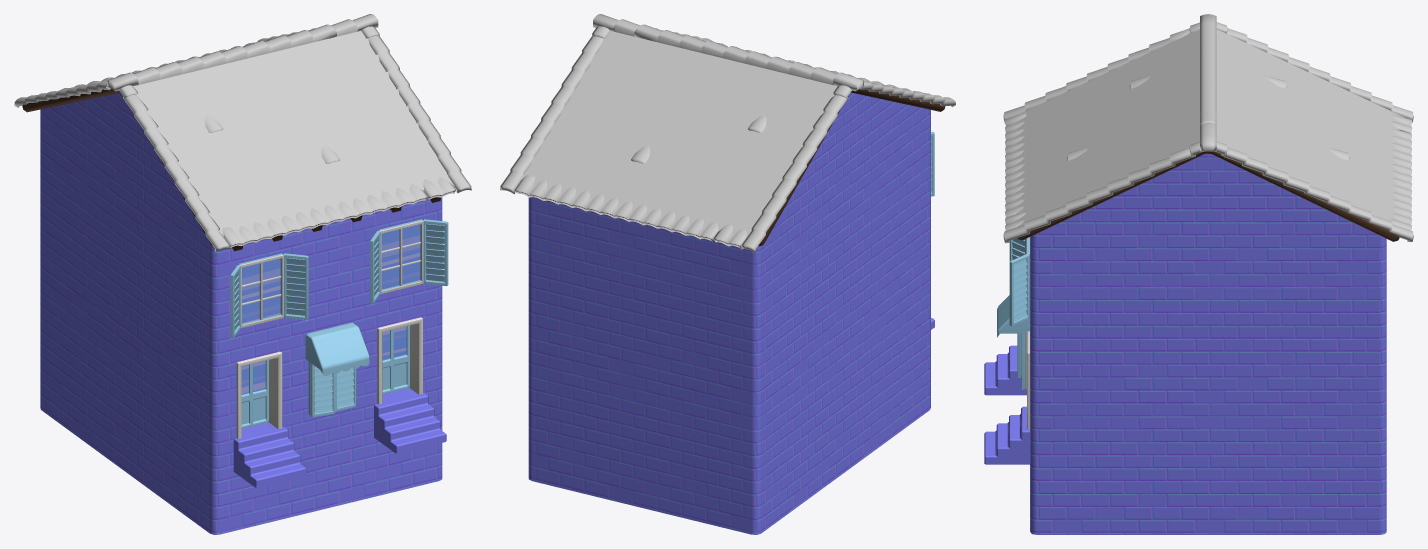
File: Building1_Blue.fbx
The picture shows the model from 3 angles, left to right: view 1: azimuth 30°, elevation 25°; view 2: azimuth 150°, elevation 25°; view 3: azimuth 270°, elevation 25°; orthographic projection.
Visible parts, largest first — view 1: Building1_Blue; view 2: Building1_Blue; view 3: Building1_Blue.
Boxes of the visible parts, x1,y1,x2,y2 form: Building1_Blue: [14, 14, 471, 534]; Building1_Blue: [500, 14, 955, 534]; Building1_Blue: [984, 14, 1413, 534].
Size of the model in its own units: 868 by 1242 by 1203.
